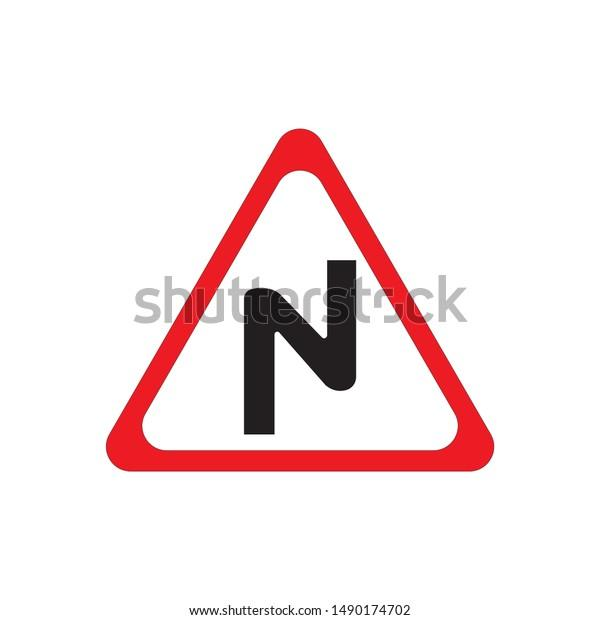Right Reverse Bend: (77, 137, 506, 478)
